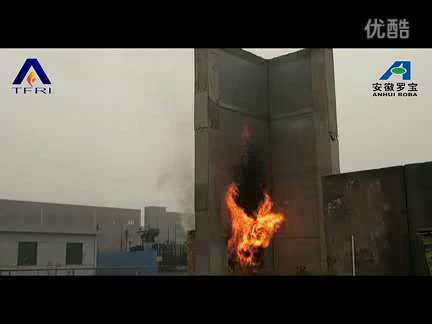fire: (222, 179, 284, 273)
